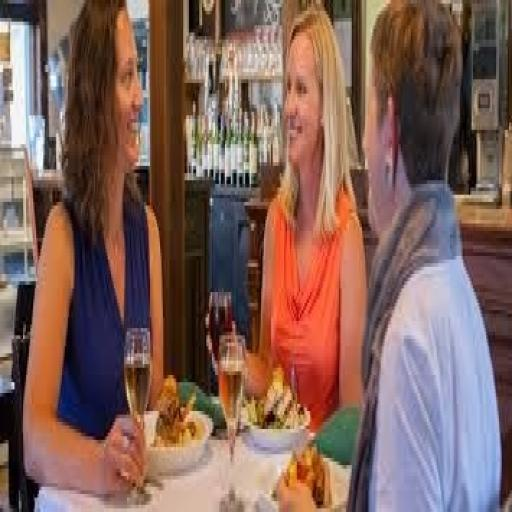eating: (22, 0, 502, 505), (20, 0, 166, 501)
